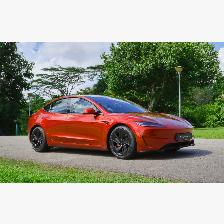EV: (29, 94, 197, 161)
